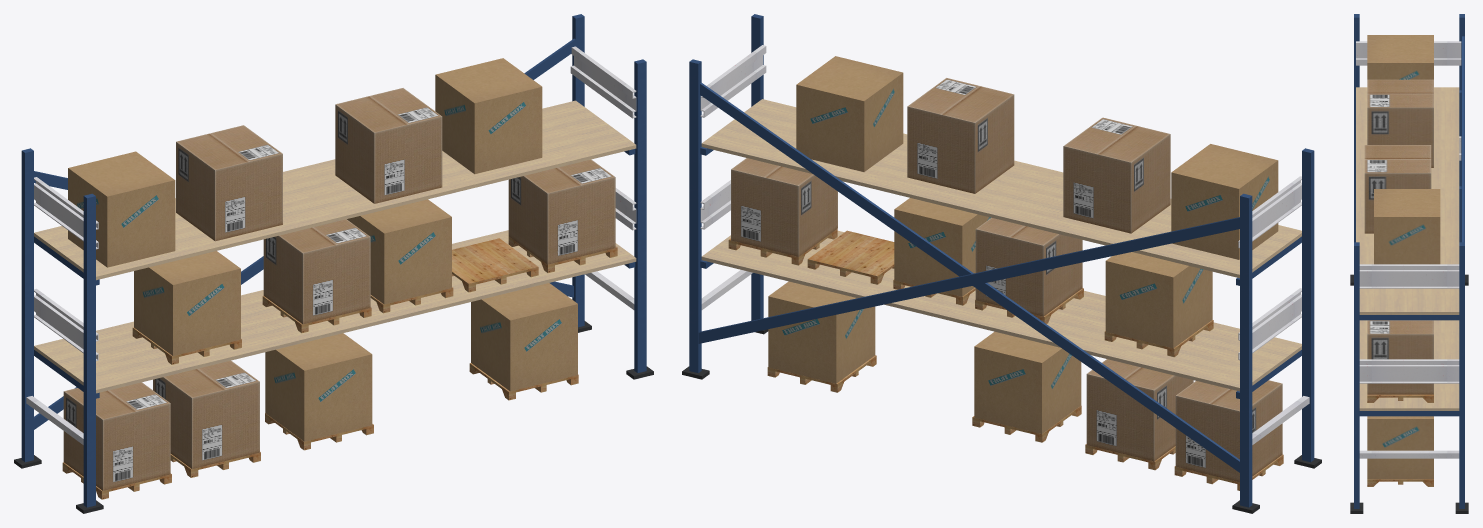
File: BigShelves04Group3.FBX
The picture shows the model from 3 angles, left to right: view 1: azimuth 30°, elevation 25°; view 2: azimuth 150°, elevation 25°; view 3: azimuth 270°, elevation 25°; orthographic projection. The views are drawn at different scales.
Visible parts, largest first — view 1: Cardboard_box01, Cardboard_box05, BigShelves04, BigShelvesWoodBox; view 2: BigShelves04, Cardboard_box01, Cardboard_box05, BigShelvesWoodBox; view 3: BigShelves04, Cardboard_box05, Cardboard_box01, BigShelvesWoodBox.
Boxes of the visible parts, x1,y1,x2,y2 form: Cardboard_box01: [63, 88, 615, 490]; Cardboard_box05: [68, 58, 577, 441]; BigShelves04: [14, 14, 653, 513]; BigShelvesWoodBox: [62, 236, 617, 499]; BigShelves04: [682, 14, 1321, 513]; Cardboard_box01: [731, 78, 1282, 482]; Cardboard_box05: [768, 56, 1278, 433]; BigShelvesWoodBox: [728, 229, 1283, 490]; BigShelves04: [1350, 14, 1468, 513]; Cardboard_box05: [1367, 35, 1440, 479]; Cardboard_box01: [1364, 79, 1433, 394]; BigShelvesWoodBox: [1367, 394, 1433, 486].
Size of the model in its own units: 337 by 177 by 71.17.
